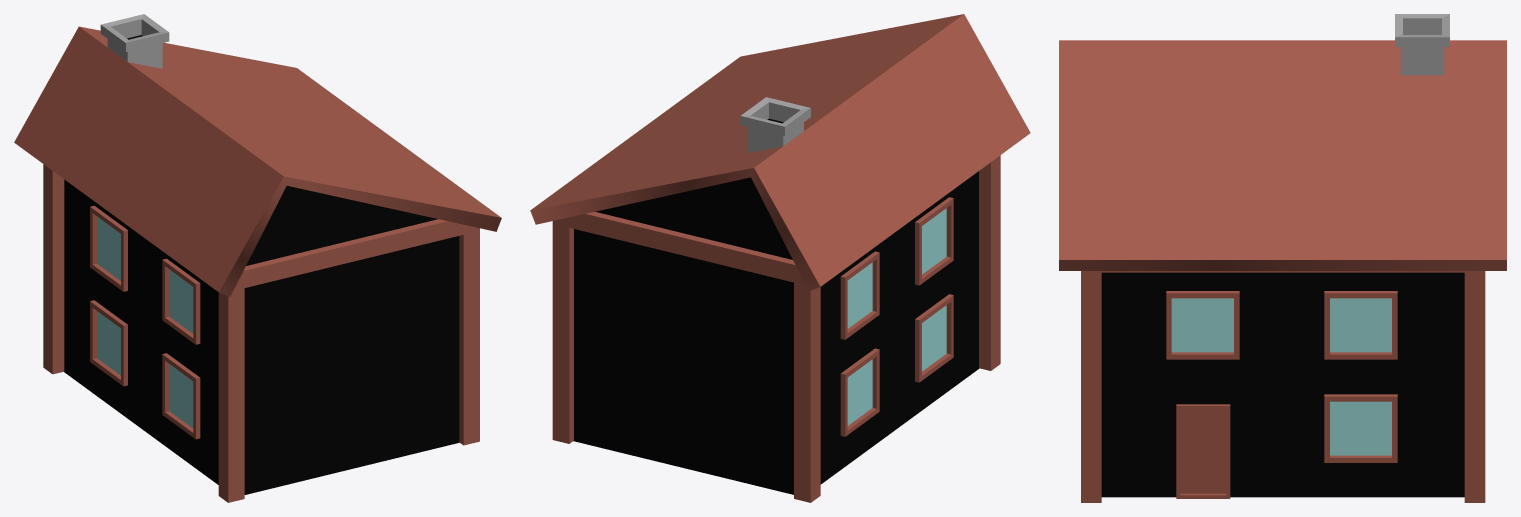
The model's file is oldHouse2.fbx.
3 views of the same model, side by side, from view 1: azimuth 30°, elevation 25°; view 2: azimuth 150°, elevation 25°; view 3: azimuth 270°, elevation 25° (orthographic). The views are drawn at different scales.
Visible parts, largest first — view 1: Wohnhaus1.002, Wohnhaus5.012, Cube.019, Plane.031, Cube.001; view 2: Wohnhaus1.002, Wohnhaus5.012, Cube.019, Plane.031, Cube.001; view 3: Wohnhaus5.012, Wohnhaus1.002, Plane.031, Cube.019, Plane.032, Cube.001.
Boxes of the visible parts, x1=… form: Wohnhaus1.002: x1=64, y1=179, x2=459, y2=494; Wohnhaus5.012: x1=14, y1=26, x2=501, y2=296; Cube.019: x1=43, y1=164, x2=479, y2=502; Plane.031: x1=90, y1=205, x2=200, y2=439; Cube.001: x1=100, y1=14, x2=169, y2=68; Wohnhaus1.002: x1=573, y1=171, x2=979, y2=494; Wohnhaus5.012: x1=530, y1=14, x2=1030, y2=291; Cube.019: x1=552, y1=155, x2=1000, y2=502; Plane.031: x1=840, y1=197, x2=953, y2=436; Cube.001: x1=740, y1=97, x2=810, y2=153; Wohnhaus5.012: x1=1059, y1=40, x2=1506, y2=270; Wohnhaus1.002: x1=1101, y1=272, x2=1464, y2=497; Plane.031: x1=1166, y1=291, x2=1397, y2=462; Cube.019: x1=1081, y1=271, x2=1485, y2=502; Plane.032: x1=1176, y1=404, x2=1230, y2=498; Cube.001: x1=1395, y1=14, x2=1449, y2=75.
Size of the model in its own units: 7.42 by 8.66 by 9.31.
